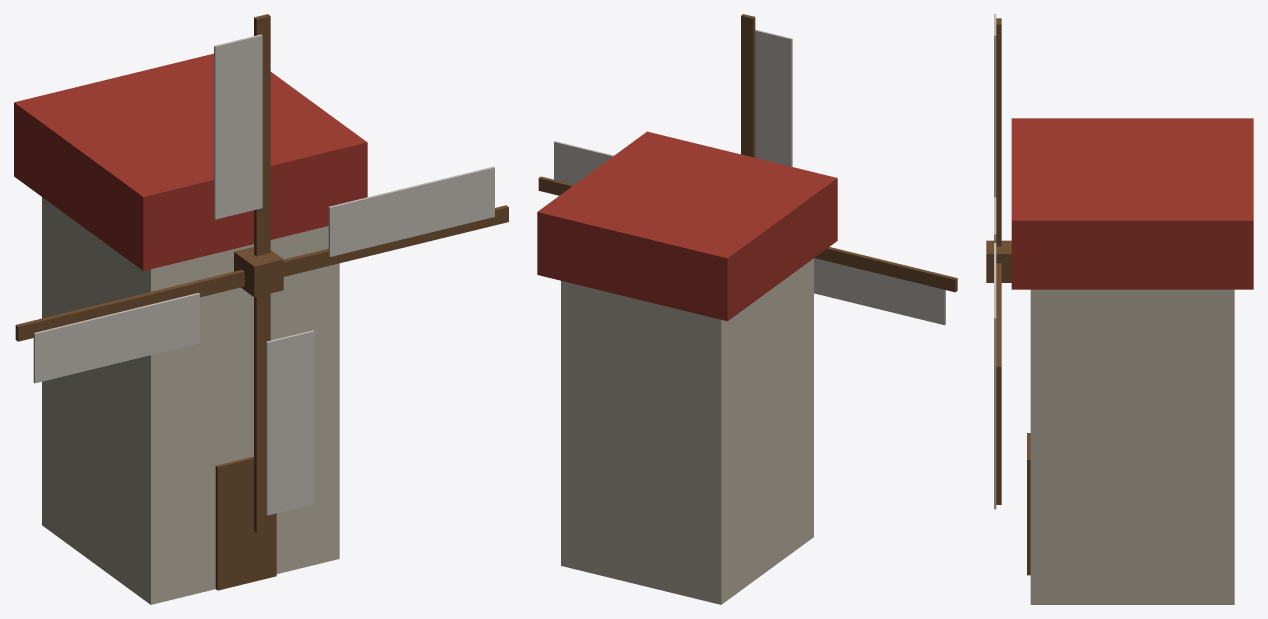
The model's file is windmill.glb.
The picture shows the model from 3 angles, left to right: view 1: azimuth 30°, elevation 25°; view 2: azimuth 150°, elevation 25°; view 3: azimuth 270°, elevation 25°; orthographic projection. The views are drawn at different scales.
Visible parts, largest first — view 1: tower, rotor; view 2: tower, rotor; view 3: tower, rotor.
Part boxes in pixels (left/top/right/bottom): tower: left=14, top=53, right=367, bottom=604; rotor: left=15, top=14, right=508, bottom=532; tower: left=537, top=131, right=837, bottom=604; rotor: left=538, top=14, right=957, bottom=325; tower: left=1011, top=118, right=1253, bottom=604; rotor: left=986, top=14, right=1011, bottom=509.
Size of the model in its own units: 4.16 by 4.68 by 2.1.
